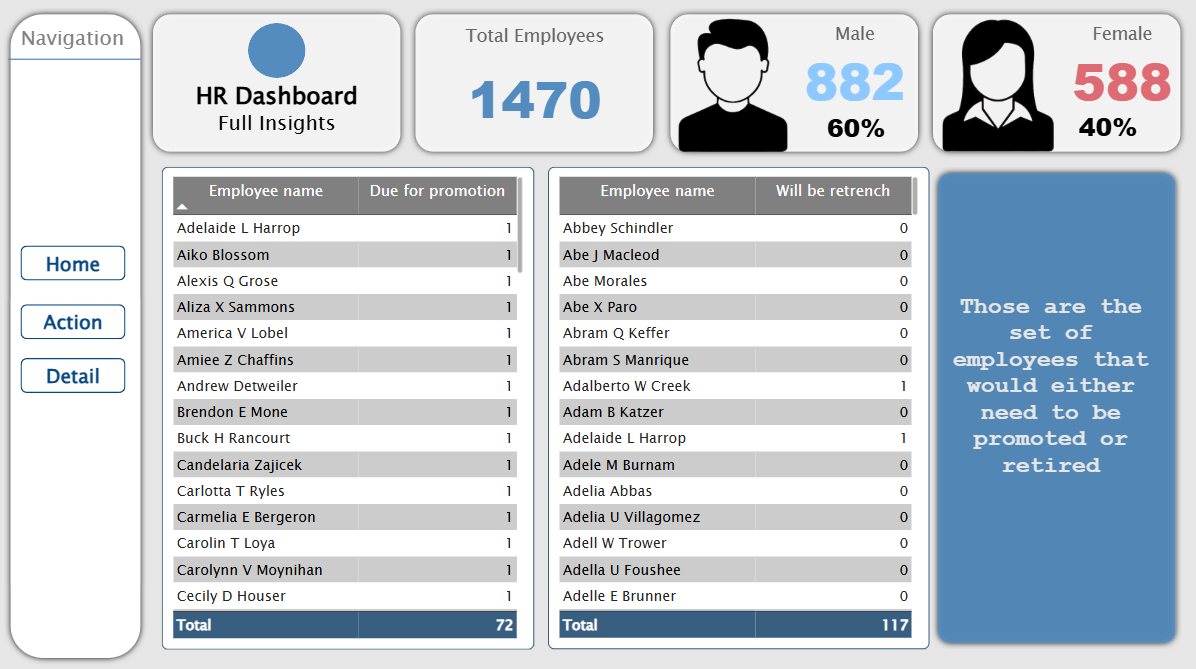

What the dashboard file says about the page in this screenshot:
{"tool":"powerbi","page":{"name":"Action","canvas":[1920,1080],"ordinal":1},"visuals":[{"type":"shape","box":[10,16,228,1050],"z":0},{"type":"shape","box":[238,16,416,240],"z":1000},{"type":"shape","box":[658,16,400,240],"z":2000},{"type":"shape","box":[1066,16,416,240],"z":3000},{"type":"shape","box":[1486,16,416,240],"z":4000},{"type":"textbox","box":[296,128,300,64],"z":5000},{"type":"textbox","box":[296,176,300,64],"z":6000},{"type":"shape","box":[400,40,92,88],"z":7000},{"type":"cardVisual","title":"Total Employees","fields":{"Data":["All Measures.Total Emp"]},"box":[712,40,294,182],"z":8000},{"type":"cardVisual","title":"Male","fields":{"Data":["All Measures.Male"]},"box":[1260,36,222,134],"z":9000},{"type":"cardVisual","title":"Female","fields":{"Data":["All Measures.Female"]},"box":[1686,36,226,134],"z":10000},{"type":"cardVisual","title":"Male","fields":{"Data":["All Measures.% male"]},"box":[1294,172,158,68],"z":11000},{"type":"cardVisual","title":"Female","fields":{"Data":["All Measures.% female"]},"box":[1712,174,128,62],"z":12000},{"type":"image","box":[1076,26,200,222],"z":13000},{"type":"image","box":[1490,26,222,222],"z":14000},{"type":"tableEx","fields":{"Values":["HR Analytics Data.Employee name","All Measures.Due for promotion"]},"box":[262,270,595.8,772.8],"z":15000},{"type":"tableEx","fields":{"Values":["HR Analytics Data.Employee name","All Measures.Will be retrench"]},"box":[880,270,610,772],"z":16000},{"type":"shape","box":[1494,270,400,772],"z":17000},{"type":"textbox","box":[1506,472,358,304],"z":18000},{"type":"textbox","box":[0,40,238,52],"z":19000},{"type":"shape","box":[16,92,212,12],"z":20000},{"type":"actionButton","box":[36,396,168,56],"z":20001},{"type":"actionButton","box":[36,490,168,56],"z":20002},{"type":"actionButton","box":[36,576,168,56],"z":20003}]}

Visuals, with their boxes in screenshot pixels (x1, y1, x2, y2), scaled from the page's 1920x1080 canvas onto the 1196x669 screenshot:
shape: [left=6, top=10, right=148, bottom=660]
shape: [left=148, top=10, right=407, bottom=159]
shape: [left=410, top=10, right=659, bottom=159]
shape: [left=664, top=10, right=923, bottom=159]
shape: [left=926, top=10, right=1185, bottom=159]
textbox: [left=184, top=79, right=371, bottom=119]
textbox: [left=184, top=109, right=371, bottom=149]
shape: [left=249, top=25, right=306, bottom=79]
"Total Employees" cardVisual: [left=444, top=25, right=627, bottom=138]
"Male" cardVisual: [left=785, top=22, right=923, bottom=105]
"Female" cardVisual: [left=1050, top=22, right=1191, bottom=105]
"Male" cardVisual: [left=806, top=107, right=904, bottom=149]
"Female" cardVisual: [left=1066, top=108, right=1146, bottom=146]
image: [left=670, top=16, right=795, bottom=154]
image: [left=928, top=16, right=1066, bottom=154]
tableEx - HR Analytics Data.Employee name x All Measures.Due for promotion: [left=163, top=167, right=534, bottom=646]
tableEx - HR Analytics Data.Employee name x All Measures.Will be retrench: [left=548, top=167, right=928, bottom=645]
shape: [left=931, top=167, right=1180, bottom=645]
textbox: [left=938, top=292, right=1161, bottom=481]
textbox: [left=0, top=25, right=148, bottom=57]
shape: [left=10, top=57, right=142, bottom=64]
actionButton: [left=22, top=245, right=127, bottom=280]
actionButton: [left=22, top=304, right=127, bottom=338]
actionButton: [left=22, top=357, right=127, bottom=391]
